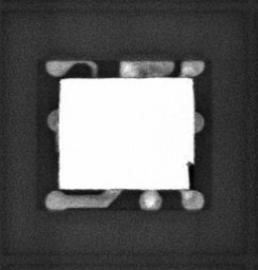DIE_BROKEN: (185, 159, 196, 190)
